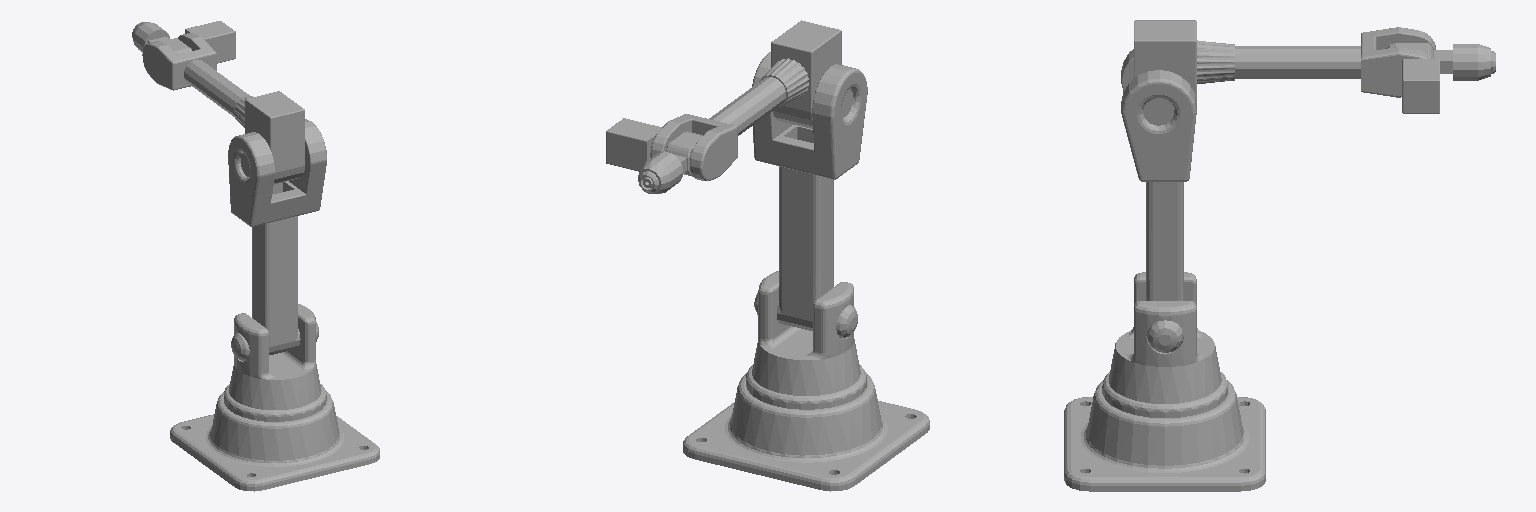
robot.urdf — robot_proyecto:
<?xml version="1.0" ?>
<!-- =================================================================================== -->
<!-- |    This document was autogenerated by xacro from robot_proyecto.xacro           | -->
<!-- |    EDITING THIS FILE BY HAND IS NOT RECOMMENDED                                 | -->
<!-- =================================================================================== -->
<robot name="robot_proyecto">
  <material name="silver">
    <color rgba="0.700 0.700 0.700 1.000"/>
  </material>
  <transmission name="revo_2_tran">
    <type>transmission_interface/SimpleTransmission</type>
    <joint name="revo_2">
      <hardwareInterface>hardware_interface/EffortJointInterface</hardwareInterface>
    </joint>
    <actuator name="revo_2_actr">
      <hardwareInterface>hardware_interface/EffortJointInterface</hardwareInterface>
      <mechanicalReduction>1</mechanicalReduction>
    </actuator>
  </transmission>
  <transmission name="revo_3_tran">
    <type>transmission_interface/SimpleTransmission</type>
    <joint name="revo_3">
      <hardwareInterface>hardware_interface/EffortJointInterface</hardwareInterface>
    </joint>
    <actuator name="revo_3_actr">
      <hardwareInterface>hardware_interface/EffortJointInterface</hardwareInterface>
      <mechanicalReduction>1</mechanicalReduction>
    </actuator>
  </transmission>
  <transmission name="revo_4_tran">
    <type>transmission_interface/SimpleTransmission</type>
    <joint name="revo_4">
      <hardwareInterface>hardware_interface/EffortJointInterface</hardwareInterface>
    </joint>
    <actuator name="revo_4_actr">
      <hardwareInterface>hardware_interface/EffortJointInterface</hardwareInterface>
      <mechanicalReduction>1</mechanicalReduction>
    </actuator>
  </transmission>
  <transmission name="revo_5_tran">
    <type>transmission_interface/SimpleTransmission</type>
    <joint name="revo_5">
      <hardwareInterface>hardware_interface/EffortJointInterface</hardwareInterface>
    </joint>
    <actuator name="revo_5_actr">
      <hardwareInterface>hardware_interface/EffortJointInterface</hardwareInterface>
      <mechanicalReduction>1</mechanicalReduction>
    </actuator>
  </transmission>
  <transmission name="revo_6_tran">
    <type>transmission_interface/SimpleTransmission</type>
    <joint name="revo_6">
      <hardwareInterface>hardware_interface/EffortJointInterface</hardwareInterface>
    </joint>
    <actuator name="revo_6_actr">
      <hardwareInterface>hardware_interface/EffortJointInterface</hardwareInterface>
      <mechanicalReduction>1</mechanicalReduction>
    </actuator>
  </transmission>
  <transmission name="revo_1_tran">
    <type>transmission_interface/SimpleTransmission</type>
    <joint name="revo_1">
      <hardwareInterface>hardware_interface/EffortJointInterface</hardwareInterface>
    </joint>
    <actuator name="revo_1_actr">
      <hardwareInterface>hardware_interface/EffortJointInterface</hardwareInterface>
      <mechanicalReduction>1</mechanicalReduction>
    </actuator>
  </transmission>
  <gazebo>
    <plugin filename="libgazebo_ros_control.so" name="gazebo_ros_control">
      <robotNamespace>/robot_proyecto</robotNamespace>
    </plugin>
  </gazebo>
  <gazebo reference="base_link">
    <material>Gazebo/Silver</material>
    <mu1>0.2</mu1>
    <mu2>0.2</mu2>
    <selfCollide>true</selfCollide>
    <gravity>0</gravity>
  </gazebo>
  <gazebo reference="link2_1">
    <material>Gazebo/Silver</material>
    <mu1>0.2</mu1>
    <mu2>0.2</mu2>
    <selfCollide>true</selfCollide>
  </gazebo>
  <gazebo reference="link3_1">
    <material>Gazebo/Silver</material>
    <mu1>0.2</mu1>
    <mu2>0.2</mu2>
    <selfCollide>true</selfCollide>
  </gazebo>
  <gazebo reference="link4_1">
    <material>Gazebo/Silver</material>
    <mu1>0.2</mu1>
    <mu2>0.2</mu2>
    <selfCollide>true</selfCollide>
  </gazebo>
  <gazebo reference="link5_1">
    <material>Gazebo/Silver</material>
    <mu1>0.2</mu1>
    <mu2>0.2</mu2>
    <selfCollide>true</selfCollide>
  </gazebo>
  <gazebo reference="link6_1">
    <material>Gazebo/Silver</material>
    <mu1>0.2</mu1>
    <mu2>0.2</mu2>
    <selfCollide>true</selfCollide>
  </gazebo>
  <gazebo reference="link1_1">
    <material>Gazebo/Silver</material>
    <mu1>0.2</mu1>
    <mu2>0.2</mu2>
    <selfCollide>true</selfCollide>
  </gazebo>
  <link name="world"/>
  <joint name="world_to_base_link=" type="fixed">
    <parent link="world"/>
    <child link="base_link"/>
  </joint>
  <link name="base_link">
    <inertial>
      <origin rpy="0 0 0" xyz="-3.0643350533575795e-15 -5.81835769624857e-17 0.018608735782155033"/>
      <mass value="3.681210634499537"/>
      <inertia ixx="0.007055" ixy="-0.0" ixz="-0.0" iyy="0.007055" iyz="-0.0" izz="0.012041"/>
    </inertial>
    <visual>
      <origin rpy="0 0 0" xyz="0 0 0"/>
      <geometry>
        <mesh filename="package://robot_proyecto_description/meshes/base_link.stl"/>
      </geometry>
      <material name="silver"/>
    </visual>
    <collision>
      <origin rpy="0 0 0" xyz="0 0 0"/>
      <geometry>
        <mesh filename="package://robot_proyecto_description/meshes/base_link.stl"/>
      </geometry>
    </collision>
  </link>
  <link name="link2_1">
    <inertial>
      <origin rpy="0 0 0" xyz="5.03801001463613e-10 -0.002257669022233806 0.13383977677365372"/>
      <mass value="2.0825690848458756"/>
      <inertia ixx="0.009789" ixy="0.0" ixz="-0.0" iyy="0.010731" iyz="0.000234" izz="0.001784"/>
    </inertial>
    <visual>
      <origin rpy="0 0 0" xyz="0.0 -0.0 -0.116"/>
      <geometry>
        <mesh filename="package://robot_proyecto_description/meshes/link2_1.stl"/>
      </geometry>
      <material name="silver"/>
    </visual>
    <collision>
      <origin rpy="0 0 0" xyz="0.0 -0.0 -0.116"/>
      <geometry>
        <mesh filename="package://robot_proyecto_description/meshes/link2_1.stl"/>
      </geometry>
    </collision>
  </link>
  <link name="link3_1">
    <inertial>
      <origin rpy="0 0 0" xyz="-3.551362869946606e-19 0.00434317057470694 0.015475703131377472"/>
      <mass value="1.2719232207208113"/>
      <inertia ixx="0.000833" ixy="-0.0" ixz="-0.0" iyy="0.000832" iyz="-1.7e-05" izz="0.000467"/>
    </inertial>
    <visual>
      <origin rpy="0 0 0" xyz="-0.0 0.005 -0.311"/>
      <geometry>
        <mesh filename="package://robot_proyecto_description/meshes/link3_1.stl"/>
      </geometry>
      <material name="silver"/>
    </visual>
    <collision>
      <origin rpy="0 0 0" xyz="-0.0 0.005 -0.311"/>
      <geometry>
        <mesh filename="package://robot_proyecto_description/meshes/link3_1.stl"/>
      </geometry>
    </collision>
  </link>
  <link name="link4_1">
    <inertial>
      <origin rpy="0 0 0" xyz="0.01068326586499289 0.12176118750392664 -5.493222942482001e-05"/>
      <mass value="1.1883665556027005"/>
      <inertia ixx="0.004412" ixy="-0.000714" ixz="2e-06" iyy="0.000734" iyz="4e-06" izz="0.004962"/>
    </inertial>
    <visual>
      <origin rpy="0 0 0" xyz="-0.0 -0.025 -0.338"/>
      <geometry>
        <mesh filename="package://robot_proyecto_description/meshes/link4_1.stl"/>
      </geometry>
      <material name="silver"/>
    </visual>
    <collision>
      <origin rpy="0 0 0" xyz="-0.0 -0.025 -0.338"/>
      <geometry>
        <mesh filename="package://robot_proyecto_description/meshes/link4_1.stl"/>
      </geometry>
    </collision>
  </link>
  <link name="link5_1">
    <inertial>
      <origin rpy="0 0 0" xyz="2.7841458772332624e-09 -0.005581416777431569 5.13738845105971e-05"/>
      <mass value="0.19239051082723982"/>
      <inertia ixx="4.5e-05" ixy="-0.0" ixz="-0.0" iyy="1.7e-05" iyz="-0.0" izz="4.6e-05"/>
    </inertial>
    <visual>
      <origin rpy="0 0 0" xyz="-0.0 -0.203 -0.337766"/>
      <geometry>
        <mesh filename="package://robot_proyecto_description/meshes/link5_1.stl"/>
      </geometry>
      <material name="silver"/>
    </visual>
    <collision>
      <origin rpy="0 0 0" xyz="-0.0 -0.203 -0.337766"/>
      <geometry>
        <mesh filename="package://robot_proyecto_description/meshes/link5_1.stl"/>
      </geometry>
    </collision>
  </link>
  <link name="link6_1">
    <inertial>
      <origin rpy="0 0 0" xyz="-3.2260852801836125e-07 0.014664378789435384 -1.1553220288229582e-06"/>
      <mass value="0.15787075091036468"/>
      <inertia ixx="2.1e-05" ixy="0.0" ixz="0.0" iyy="1.7e-05" iyz="0.0" izz="2.1e-05"/>
    </inertial>
    <visual>
      <origin rpy="0 0 0" xyz="-0.0 -0.228 -0.338"/>
      <geometry>
        <mesh filename="package://robot_proyecto_description/meshes/link6_1.stl"/>
      </geometry>
      <material name="silver"/>
    </visual>
    <collision>
      <origin rpy="0 0 0" xyz="-0.0 -0.228 -0.338"/>
      <geometry>
        <mesh filename="package://robot_proyecto_description/meshes/link6_1.stl"/>
      </geometry>
    </collision>
  </link>
  <link name="link1_1">
    <inertial>
      <origin rpy="0 0 0" xyz="-2.1512973629865014e-05 -4.170466759319841e-09 0.026937708587327566"/>
      <mass value="2.3854069792520733"/>
      <inertia ixx="0.002223" ixy="-0.0" ixz="2e-06" iyy="0.002484" iyz="-0.0" izz="0.002413"/>
    </inertial>
    <visual>
      <origin rpy="0 0 0" xyz="-0.0 -0.0 -0.05"/>
      <geometry>
        <mesh filename="package://robot_proyecto_description/meshes/link1_1.stl"/>
      </geometry>
      <material name="silver"/>
    </visual>
    <collision>
      <origin rpy="0 0 0" xyz="-0.0 -0.0 -0.05"/>
      <geometry>
        <mesh filename="package://robot_proyecto_description/meshes/link1_1.stl"/>
      </geometry>
    </collision>
  </link>
  <joint name="revo_2" type="revolute">
    <origin rpy="0 0 0" xyz="-0.0 0.0 0.066"/>
    <parent link="link1_1"/>
    <child link="link2_1"/>
    <axis xyz="1.0 0.0 0.0"/>
    <limit effort="100" lower="-1.570796" upper="1.570796" velocity="100"/>
  </joint>
  <joint name="revo_3" type="revolute">
    <origin rpy="0 0 0" xyz="0.0 -0.005 0.195"/>
    <parent link="link2_1"/>
    <child link="link3_1"/>
    <axis xyz="1.0 0.0 0.0"/>
    <limit effort="100" lower="-1.570796" upper="1.570796" velocity="100"/>
  </joint>
  <joint name="revo_4" type="revolute">
    <origin rpy="0 0 0" xyz="0.0 0.03 0.027"/>
    <parent link="link3_1"/>
    <child link="link4_1"/>
    <axis xyz="0.0 1.0 0.0"/>
    <limit effort="100" lower="0.0" upper="6.283185" velocity="100"/>
  </joint>
  <joint name="revo_5" type="revolute">
    <origin rpy="0 0 0" xyz="0.0 0.178 -0.000234"/>
    <parent link="link4_1"/>
    <child link="link5_1"/>
    <axis xyz="-1.0 0.0 0.0"/>
    <limit effort="100" lower="-1.570796" upper="1.570796" velocity="100"/>
  </joint>
  <joint name="revo_6" type="revolute">
    <origin rpy="0 0 0" xyz="0.0 0.025 0.000234"/>
    <parent link="link5_1"/>
    <child link="link6_1"/>
    <axis xyz="0.0 1.0 0.0"/>
    <limit effort="100" lower="0.0" upper="6.283185" velocity="100"/>
  </joint>
  <joint name="revo_1" type="revolute">
    <origin rpy="0 0 0" xyz="0.0 0.0 0.05"/>
    <parent link="base_link"/>
    <child link="link1_1"/>
    <axis xyz="0.0 0.0 1.0"/>
    <limit effort="100" lower="0.0" upper="6.283185" velocity="100"/>
  </joint>
</robot>


--- What the picture shows (computed from the rendered views, not written in the file) ---
The picture shows the robot from 3 angles, left to right: view 1: azimuth 30°, elevation 25°; view 2: azimuth 150°, elevation 25°; view 3: azimuth 270°, elevation 25°; orthographic projection.
Model robot_proyecto with 8 links and 7 joints (6 revolute, 1 fixed), rooted at world, posed all joints at 0.
Visible links, largest first — view 1: link2_1, base_link, link1_1, link4_1, link3_1, link6_1; view 2: link2_1, base_link, link1_1, link4_1, link3_1, link6_1, link5_1; view 3: base_link, link2_1, link4_1, link1_1, link3_1, link6_1, link5_1.
Boxes of the visible links, x1=… form: link2_1: x1=228, y1=119, x2=326, y2=360; base_link: x1=170, y1=391, x2=379, y2=491; link1_1: x1=224, y1=304, x2=326, y2=421; link4_1: x1=142, y1=21, x2=252, y2=127; link3_1: x1=241, y1=91, x2=304, y2=183; link6_1: x1=132, y1=22, x2=169, y2=52; link2_1: x1=752, y1=52, x2=867, y2=337; base_link: x1=683, y1=373, x2=929, y2=491; link1_1: x1=746, y1=271, x2=866, y2=409; link4_1: x1=606, y1=58, x2=808, y2=180; link3_1: x1=771, y1=20, x2=852, y2=128; link6_1: x1=638, y1=151, x2=683, y2=193; link5_1: x1=666, y1=131, x2=710, y2=175; base_link: x1=1064, y1=380, x2=1265, y2=491; link2_1: x1=1121, y1=49, x2=1196, y2=352; link4_1: x1=1197, y1=27, x2=1439, y2=113; link1_1: x1=1102, y1=272, x2=1227, y2=417; link3_1: x1=1134, y1=20, x2=1196, y2=125; link6_1: x1=1453, y1=44, x2=1495, y2=80; link5_1: x1=1385, y1=43, x2=1452, y2=73.
Size in the robot's own frame: 0.16 by 0.342 by 0.366 metres.
7 mesh visuals loaded from 7 distinct referenced files (7 binary STL).